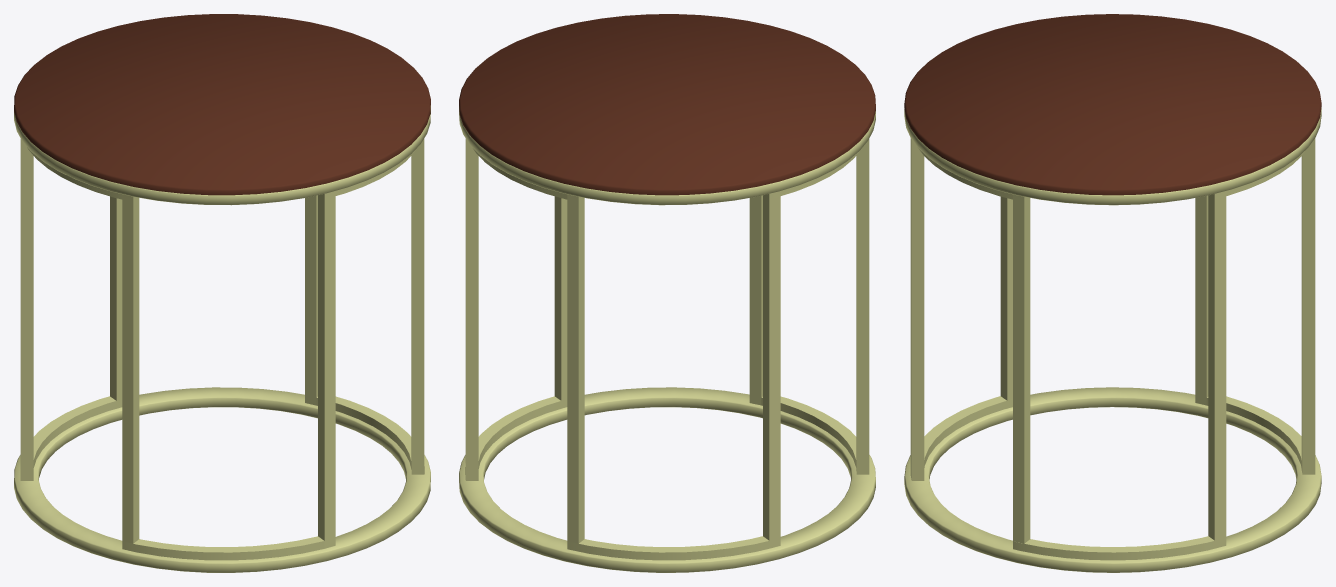
Rendered from endtable.fbx.
3 renders of one model, left to right at view 1: azimuth 30°, elevation 25°; view 2: azimuth 150°, elevation 25°; view 3: azimuth 270°, elevation 25°, orthographic.
Parts seen in each view (by area): view 1: table 61 2017 table 61 2017 [449463].001; view 2: table 61 2017 table 61 2017 [449463].001; view 3: table 61 2017 table 61 2017 [449463].001.
Part boxes in pixels (<box>): table 61 2017 table 61 2017 [449463].001: <box>14,14,430,572</box>; table 61 2017 table 61 2017 [449463].001: <box>459,14,875,572</box>; table 61 2017 table 61 2017 [449463].001: <box>904,14,1321,572</box>.
Size of the model in its own units: 51.69 by 52.49 by 51.69.
